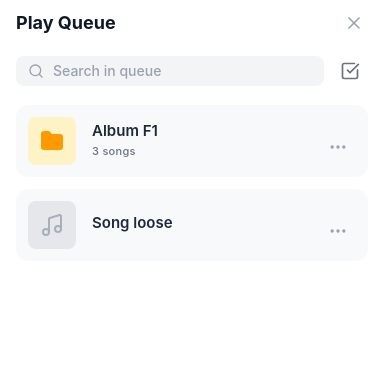
Scenario: QueuePanel selection scope + prune + focus restore (UQS-1/UQS-3/QST-2) › UQS-1 root view (folder collapsed): Select all chỉ chọn row đang hiện (LOOSE), member ẩn không bị xoá
This screenshot has width=385, height=382.
Click the button named "Select multiple" at [350, 71], box [332,53,368,89]
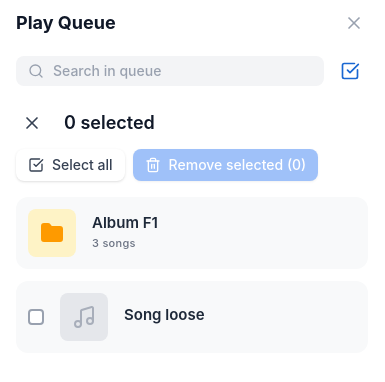
Now the number of checkboxes is 1, box [28,309,44,325]
Click the button "Select all" at [70, 165], box [16,149,125,181]
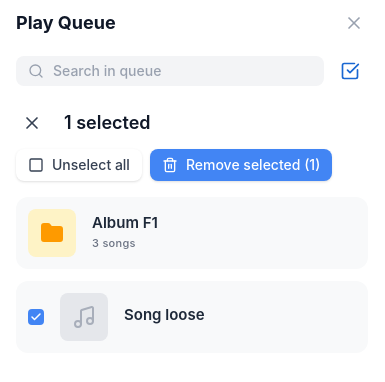
Expected: the text "Song loose" is shown, [16,281,368,365]
Now the text "1 selected" is shown, box [64,112,151,133]
Now the checkbox is checked, box [28,309,44,325]
Click the button with test id "queue-remove-selected" at [241, 165], box [150,149,332,181]
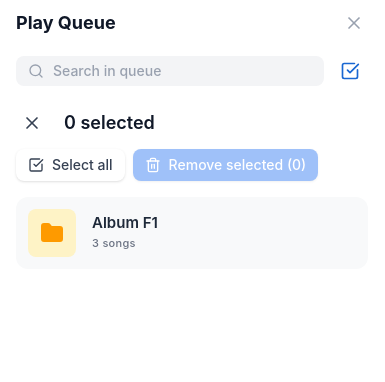
Expected: the cell with test id "queue-folder-row" shows "3 songs", [92,236,136,250]
Now the heading "Song loose" is gone
